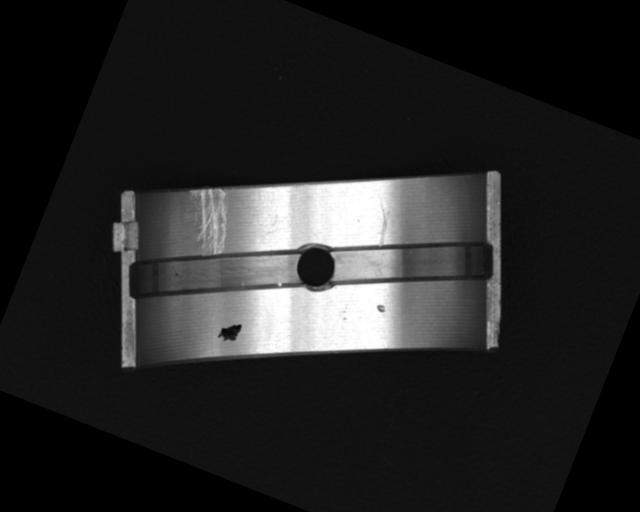blot: (215, 316, 245, 346)
bruise: (375, 303, 387, 314)
gap: (119, 201, 308, 352), (320, 192, 502, 331)
hole: (290, 239, 343, 295)
nick: (364, 198, 399, 246)
scratch: (172, 180, 243, 258)
